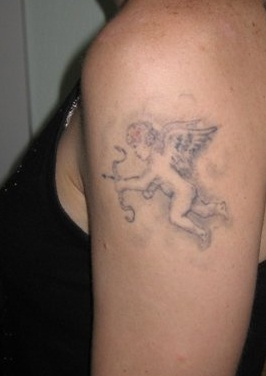tatu1_angel: (98, 103, 238, 244)
